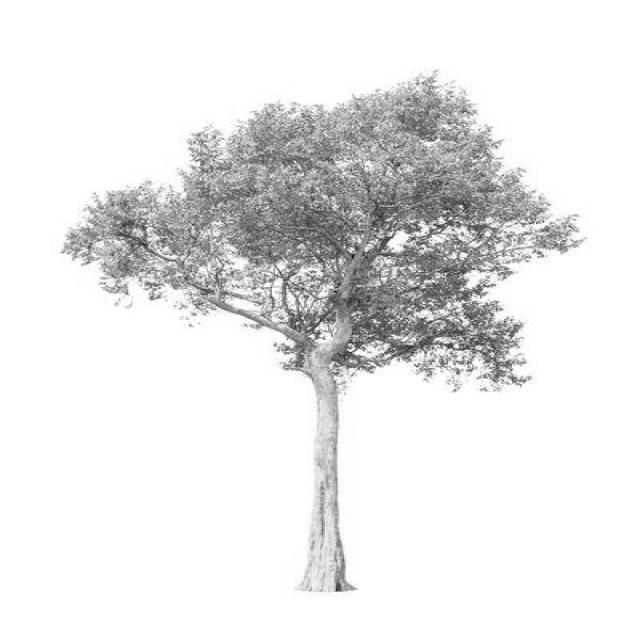Tree: (64, 76, 579, 593)
